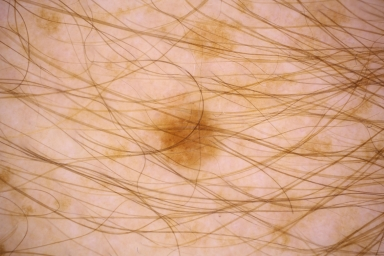nevus: (161, 114, 218, 164)
